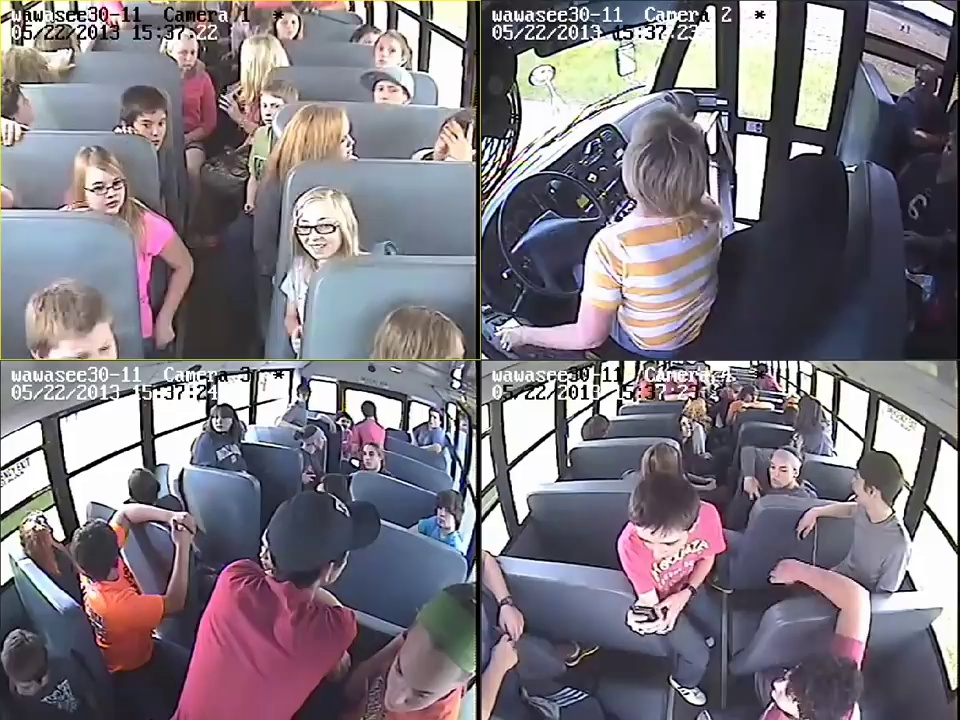face: (388, 646, 445, 717), (80, 165, 126, 215), (302, 203, 339, 259), (138, 107, 165, 149), (173, 39, 198, 74), (258, 90, 281, 127), (374, 36, 402, 66), (767, 457, 793, 489), (372, 77, 399, 104), (434, 500, 460, 528), (361, 443, 382, 468), (277, 14, 299, 36), (214, 412, 231, 431), (426, 412, 439, 424)
